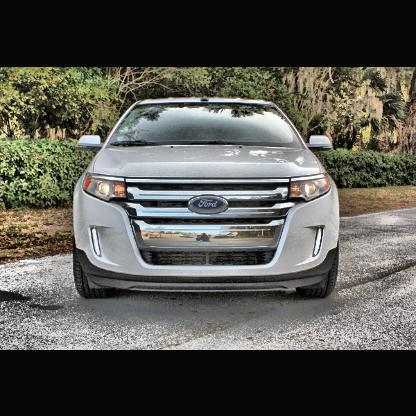Ford Edge SUV 2012: (74, 96, 343, 304)
